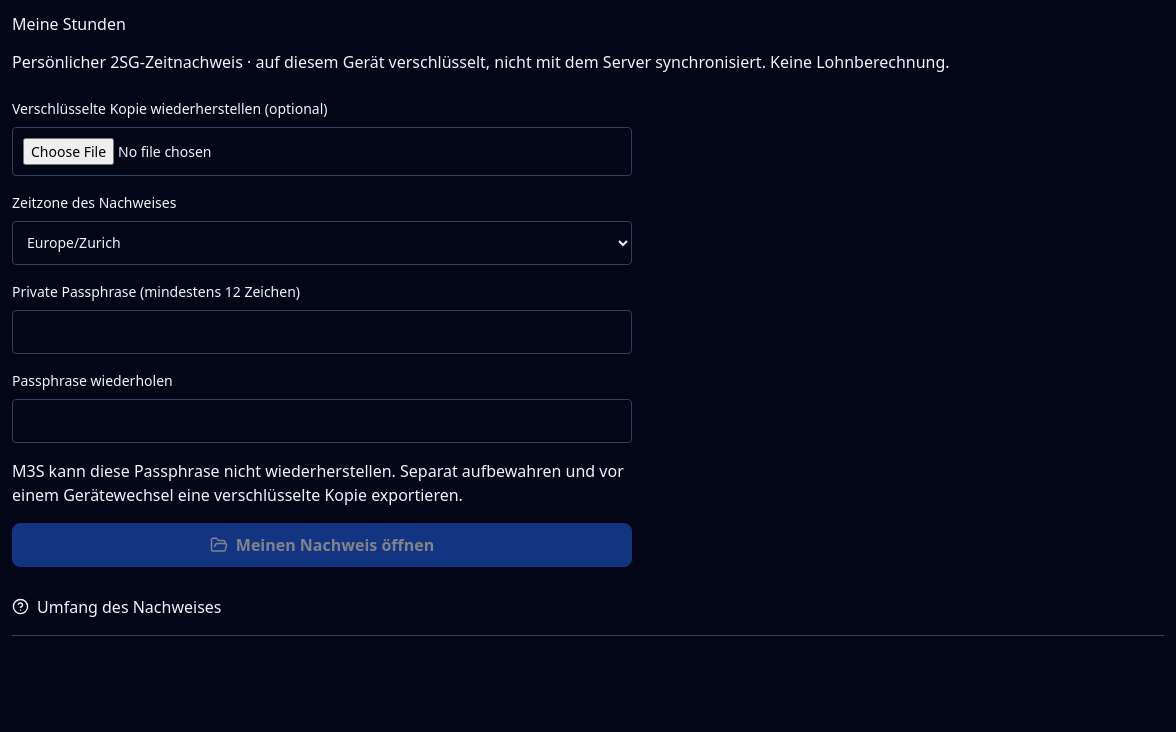
locked and open DE states are translated and do not claim server sync or employee pay
Step 1. Type "synthetic private hours" into the password field labelled "Private Passphrase (mindestens 12 Zeichen)" → (322, 332), box [12,310,632,354]
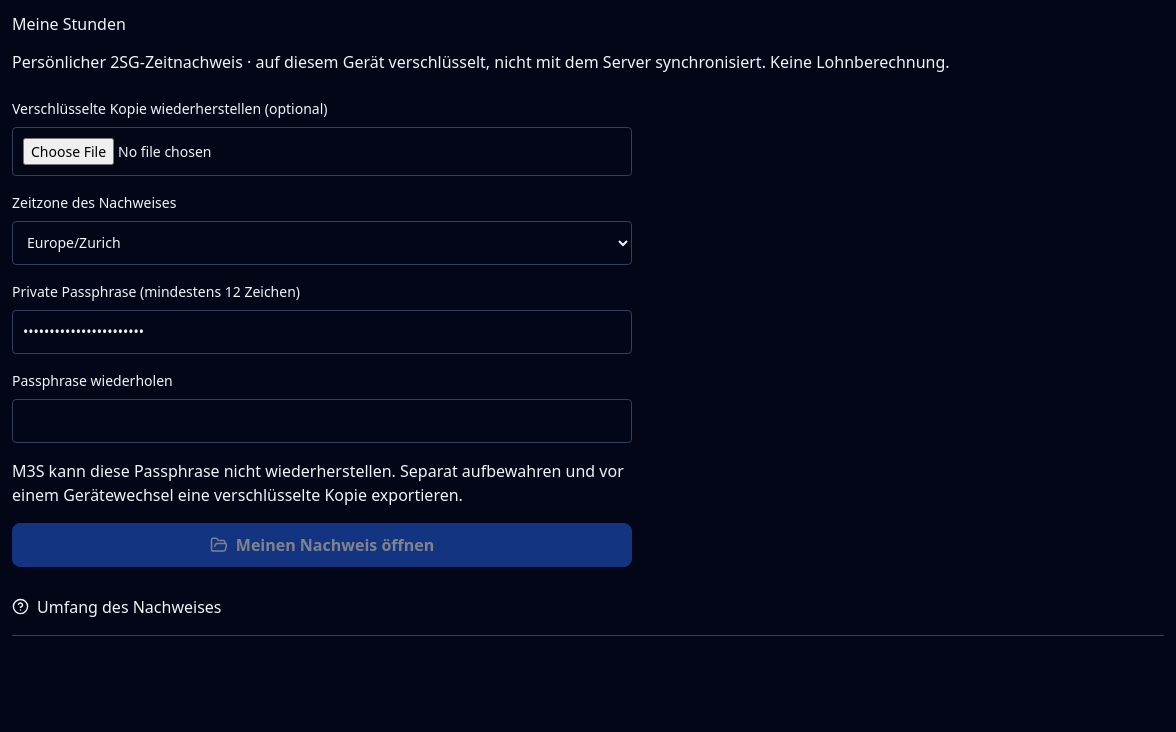
Step 2. Type "synthetic private hours" into the password field labelled "Passphrase wiederholen" → (322, 421), box [12,399,632,443]
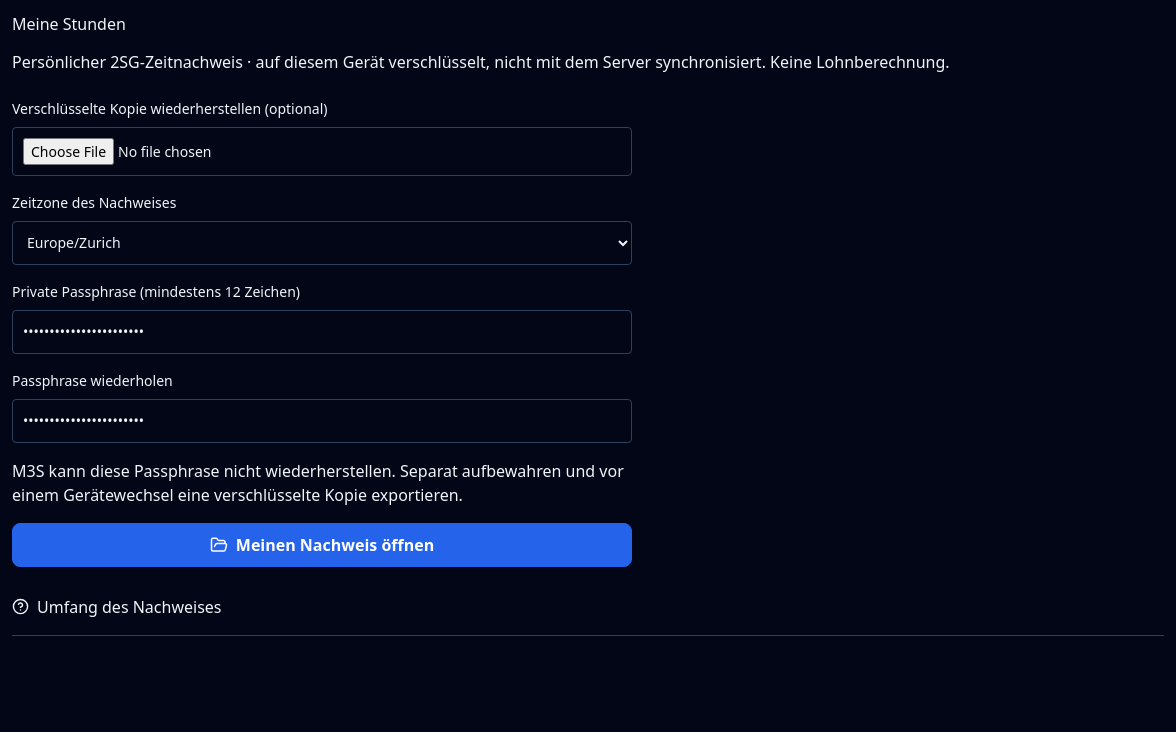
Step 3. Click the button "Meinen Nachweis öffnen" → (322, 545), box [12,523,632,567]
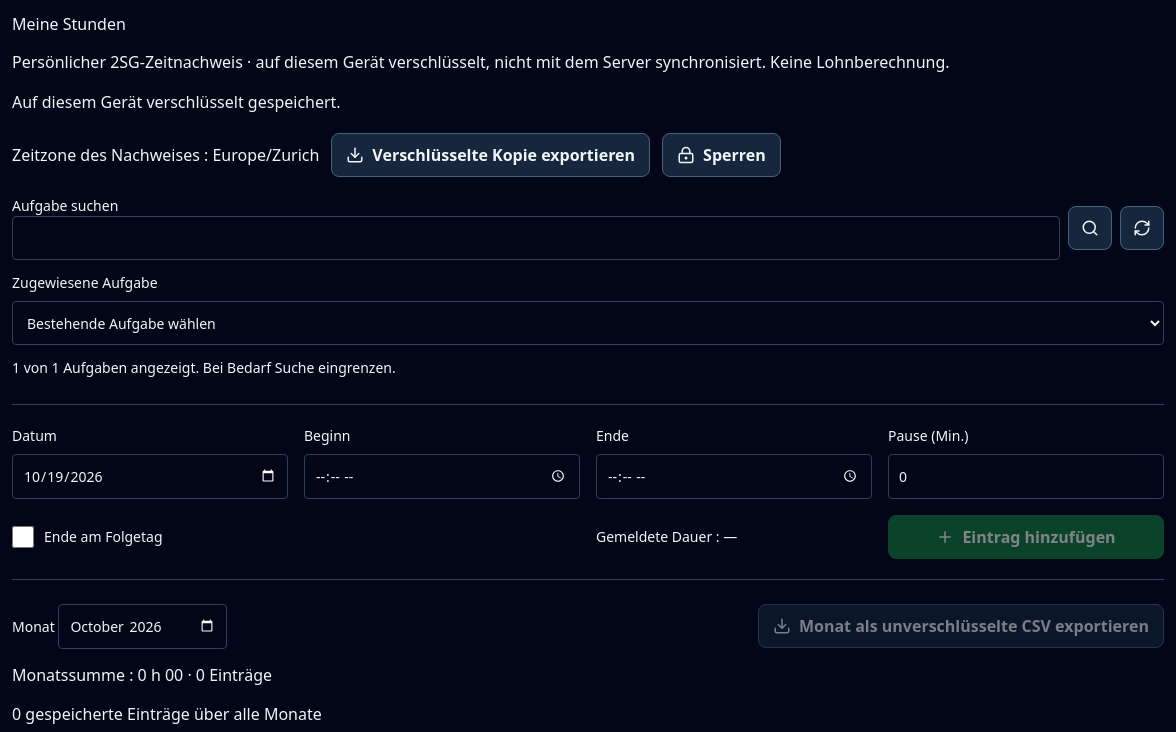
Now the button "Sperren" is shown, box [662,133,781,177]
Now the dropdown labelled "Zugewiesene Aufgabe" is shown, box [12,301,1164,345]
Now the label labelled "Private Passphrase (mindestens 12 Zeichen)" is gone
